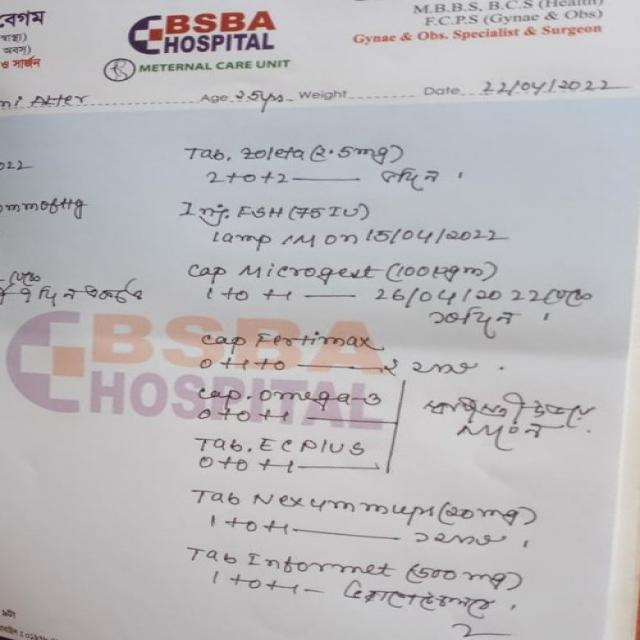EC PLUS: (254, 432, 373, 457)
FSH: (237, 201, 290, 223)
Fertimax: (241, 324, 384, 353)
Informet: (235, 542, 400, 579)
Microgest: (240, 263, 379, 287)
Nexum Mups: (247, 486, 438, 522)
Omega: (254, 383, 385, 411)
Zoleta: (231, 142, 312, 165)
